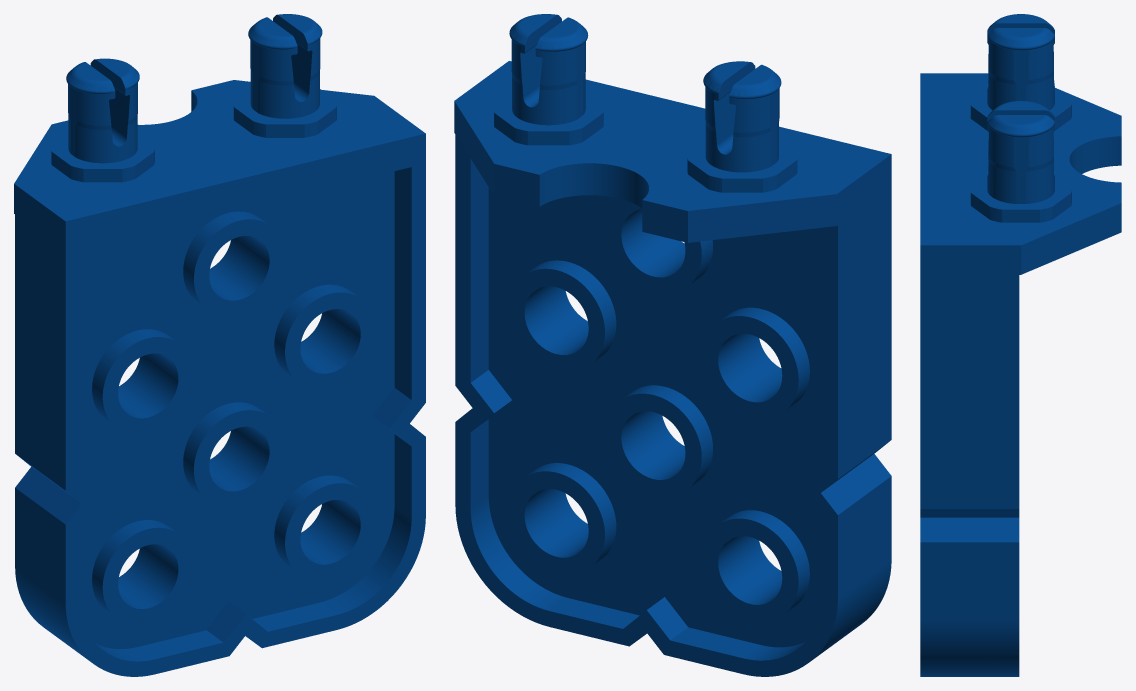
The picture shows the model from 3 angles, left to right: view 1: azimuth 30°, elevation 25°; view 2: azimuth 150°, elevation 25°; view 3: azimuth 270°, elevation 25°; orthographic projection. The views are drawn at different scales.
Parts seen in each view (by area): view 1: 228-2500-2296; view 2: 228-2500-2296; view 3: 228-2500-2296.
Part boxes in pixels (<box>): 228-2500-2296: <box>14,14,425,676</box>; 228-2500-2296: <box>454,14,891,676</box>; 228-2500-2296: <box>920,14,1121,676</box>.
Bounding box in the file's own units: 0.0251 × 0.0377 × 0.0124.
